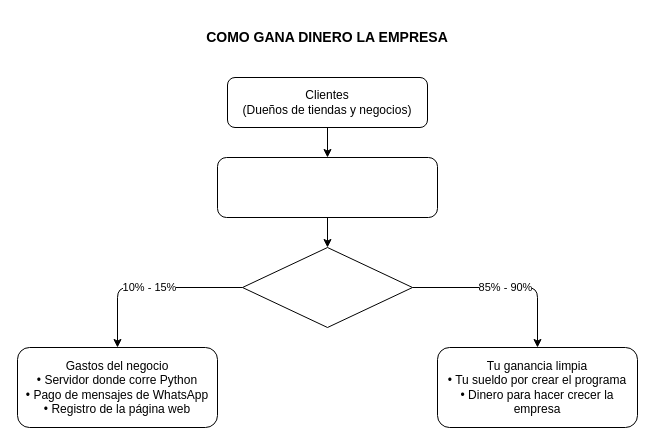
This 655x445 diagram has some shape labels left out. The centre of each missing label's shape, as x and y in pixels:
"Cobro de renta cada mes (Planes: $499, $1,299 o $2,999)" belongs at point (327, 187).
"Dinero total que entra" belongs at point (327, 287).
